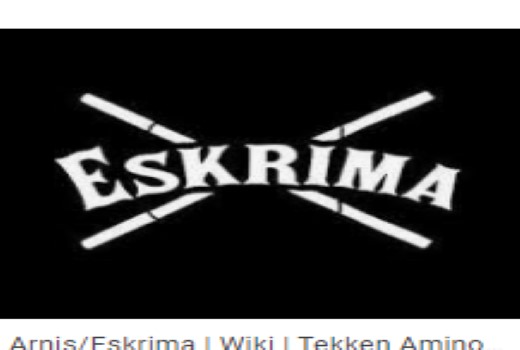baston_v: (415, 81, 441, 112), (415, 226, 436, 259), (69, 235, 102, 255), (73, 85, 96, 111)
